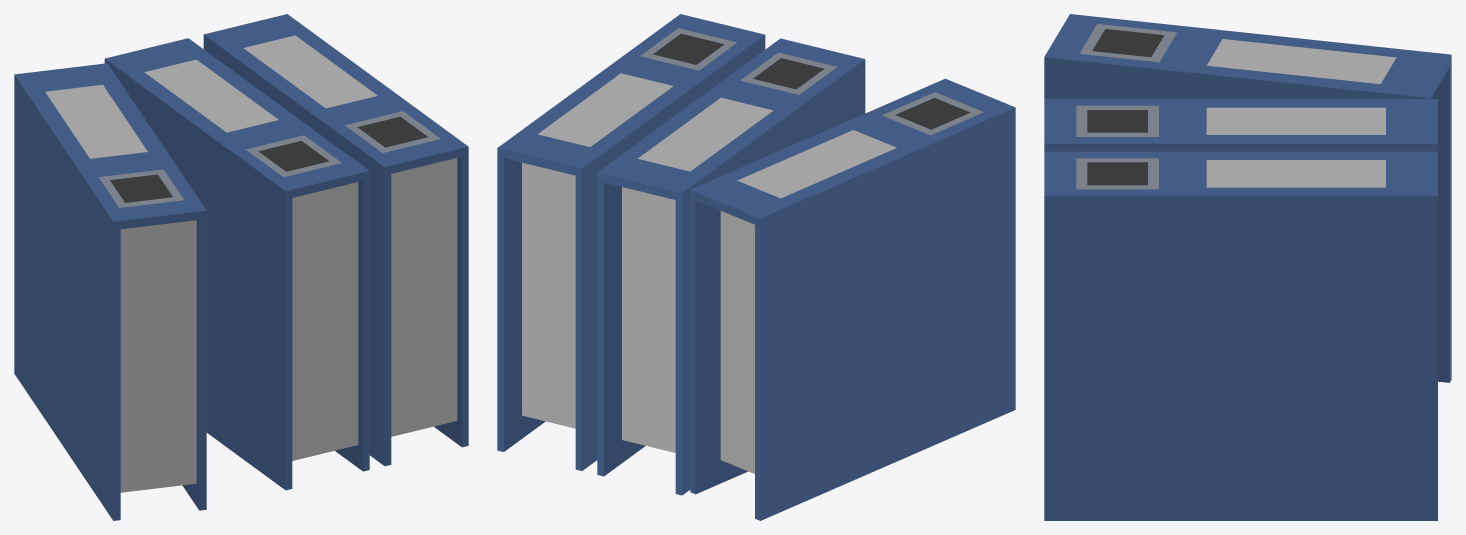
File: BoxFile2.glb
3 views of the same model, side by side, from view 1: azimuth 30°, elevation 25°; view 2: azimuth 150°, elevation 25°; view 3: azimuth 270°, elevation 25° (orthographic). The views are drawn at different scales.
Parts seen in each view (by area): view 1: SO_Boxfile_02; view 2: SO_Boxfile_02; view 3: SO_Boxfile_02.
Boxes of the visible parts, left/top/right/bottom form: SO_Boxfile_02: left=14, top=14, right=468, bottom=520; SO_Boxfile_02: left=497, top=14, right=1015, bottom=520; SO_Boxfile_02: left=1044, top=14, right=1451, bottom=520.
Size of the model in its own units: 0.7143 by 0.5946 by 0.6757.
Materials: 1 (1 with a texture image).
